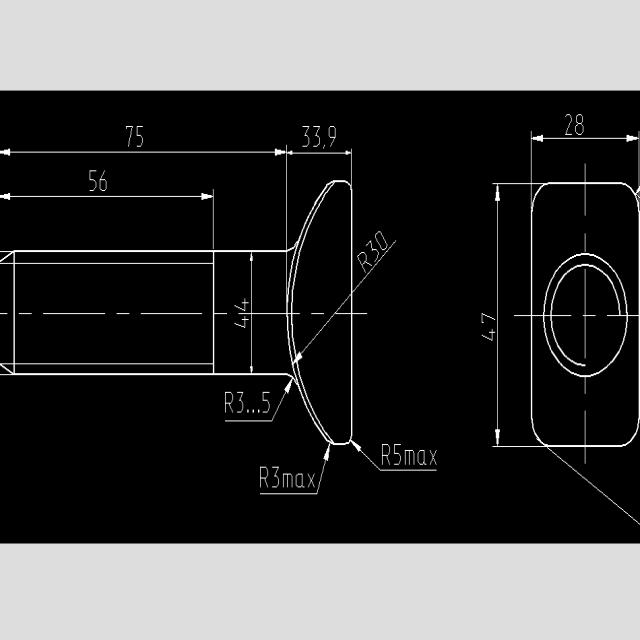marking_line: (0, 147, 291, 247), (2, 188, 214, 247), (491, 180, 530, 451), (530, 132, 640, 182), (294, 288, 354, 362), (259, 443, 331, 499), (217, 380, 292, 426), (352, 438, 439, 472), (288, 147, 356, 179), (247, 254, 256, 373)
numeric: (479, 309, 498, 329), (375, 228, 389, 251), (262, 387, 273, 416), (366, 240, 381, 261), (269, 462, 280, 490), (87, 167, 98, 193), (235, 387, 245, 415), (478, 329, 497, 343), (327, 125, 338, 149), (574, 112, 586, 134), (234, 314, 249, 331), (99, 169, 110, 192), (134, 125, 145, 147), (301, 123, 310, 148), (312, 123, 321, 147), (234, 301, 251, 313), (564, 110, 571, 137), (126, 125, 134, 146)
